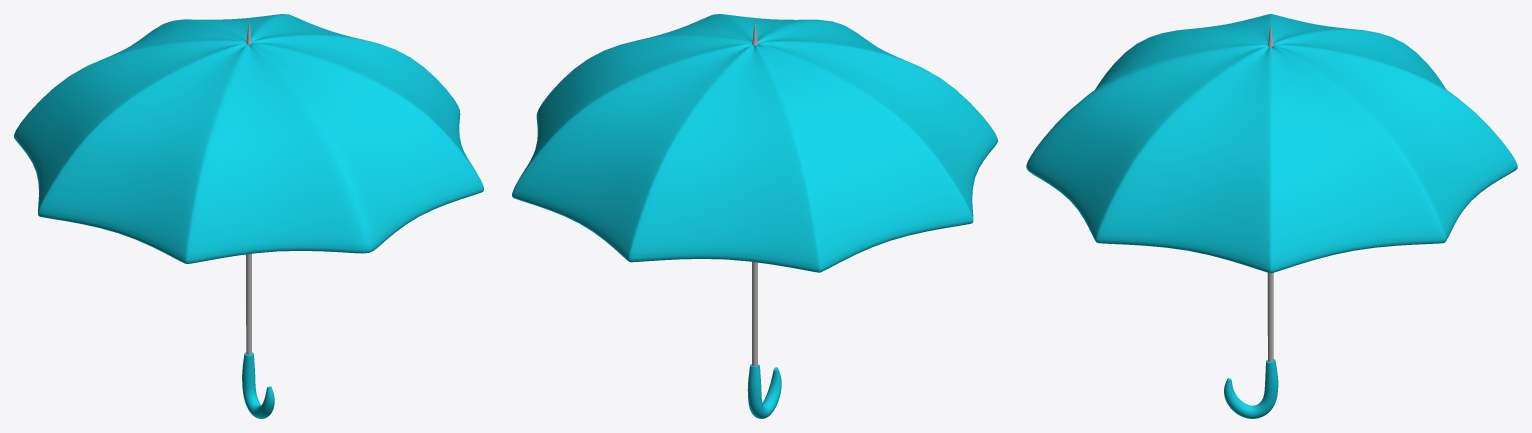
Rendered from umbrella.fbx.
3 renders of one model, left to right at view 1: azimuth 30°, elevation 25°; view 2: azimuth 150°, elevation 25°; view 3: azimuth 270°, elevation 25°, orthographic. The views are drawn at different scales.
Parts seen in each view (by area): view 1: Umbrella; view 2: Umbrella; view 3: Umbrella.
Boxes of the visible parts, x1,y1,x2,y2 form: Umbrella: (14,14,483,418); Umbrella: (512,14,997,418); Umbrella: (1026,14,1517,418).
Bounding box in the file's own units: 447 × 392 × 445.
